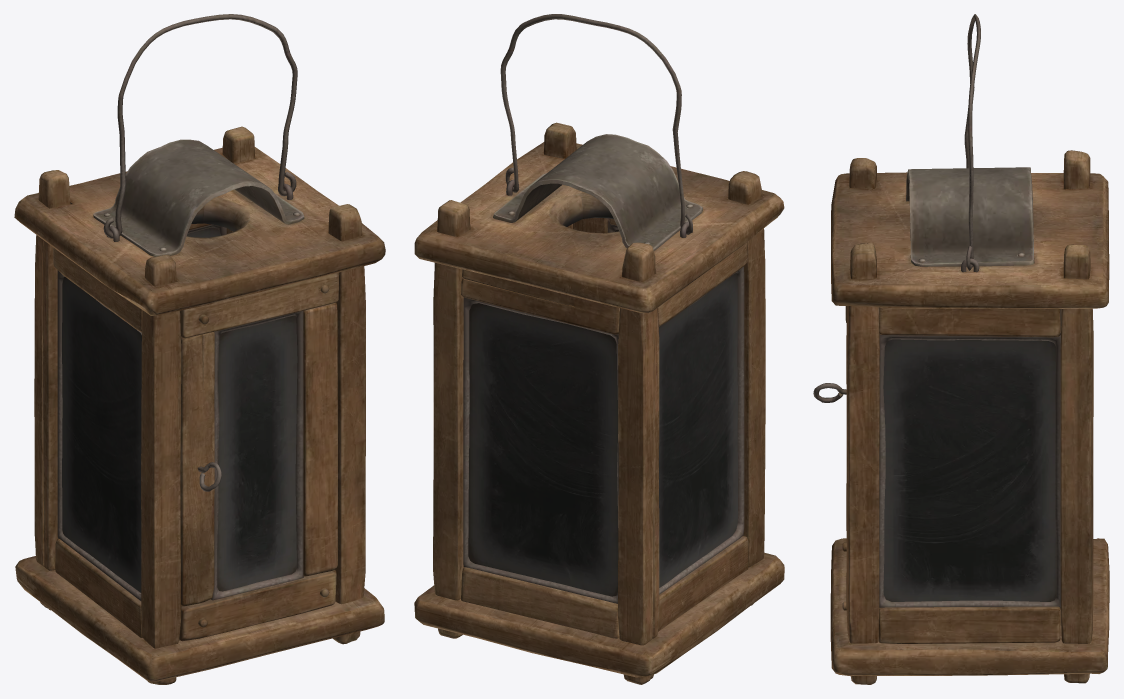
Rendered from haze-lantern.glb.
3 renders of one model, left to right at view 1: azimuth 30°, elevation 25°; view 2: azimuth 150°, elevation 25°; view 3: azimuth 270°, elevation 25°, orthographic.
Parts seen in each view (by area): view 1: wooden_lantern_01, wooden_lantern_01_door, wooden_lantern_01_handle; view 2: wooden_lantern_01, wooden_lantern_01_handle, wooden_lantern_01_door; view 3: wooden_lantern_01, wooden_lantern_01_handle, wooden_lantern_01_door.
Boxes of the visible parts, bbox=[...] form: wooden_lantern_01: bbox=[14, 126, 385, 684]; wooden_lantern_01_door: bbox=[179, 272, 339, 641]; wooden_lantern_01_handle: bbox=[103, 14, 297, 238]; wooden_lantern_01: bbox=[414, 122, 784, 684]; wooden_lantern_01_handle: bbox=[500, 14, 692, 234]; wooden_lantern_01_door: bbox=[573, 217, 618, 233]; wooden_lantern_01: bbox=[830, 150, 1109, 684]; wooden_lantern_01_handle: bbox=[964, 14, 980, 270]; wooden_lantern_01_door: bbox=[813, 306, 847, 610].
Bounding box in the file's own units: 0.2211 × 0.5301 × 0.2347.
Materials: 2 (2 with a texture image).
